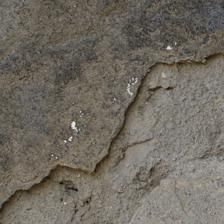Crack: (0, 70, 101, 152), (67, 63, 116, 176)
